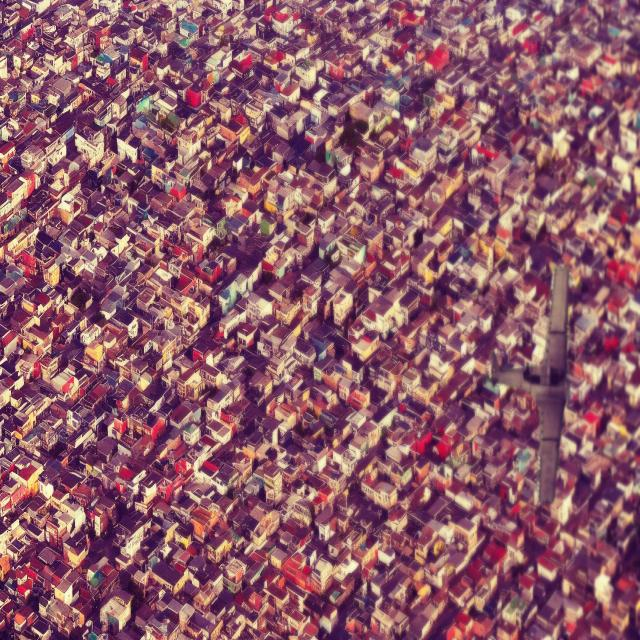airplane: (489, 262, 572, 502)
